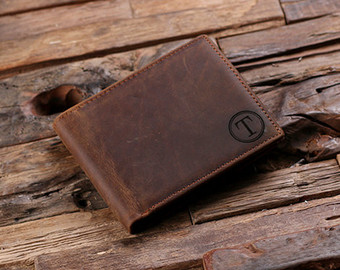monedero: (52, 33, 288, 239)
